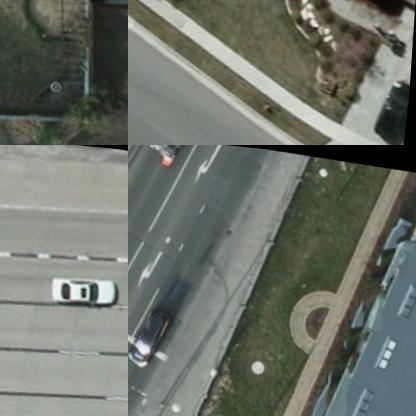car: (374, 61, 412, 139), (52, 268, 121, 310), (135, 304, 175, 370)
